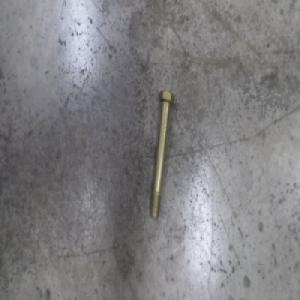Bolt: (148, 89, 175, 221)
